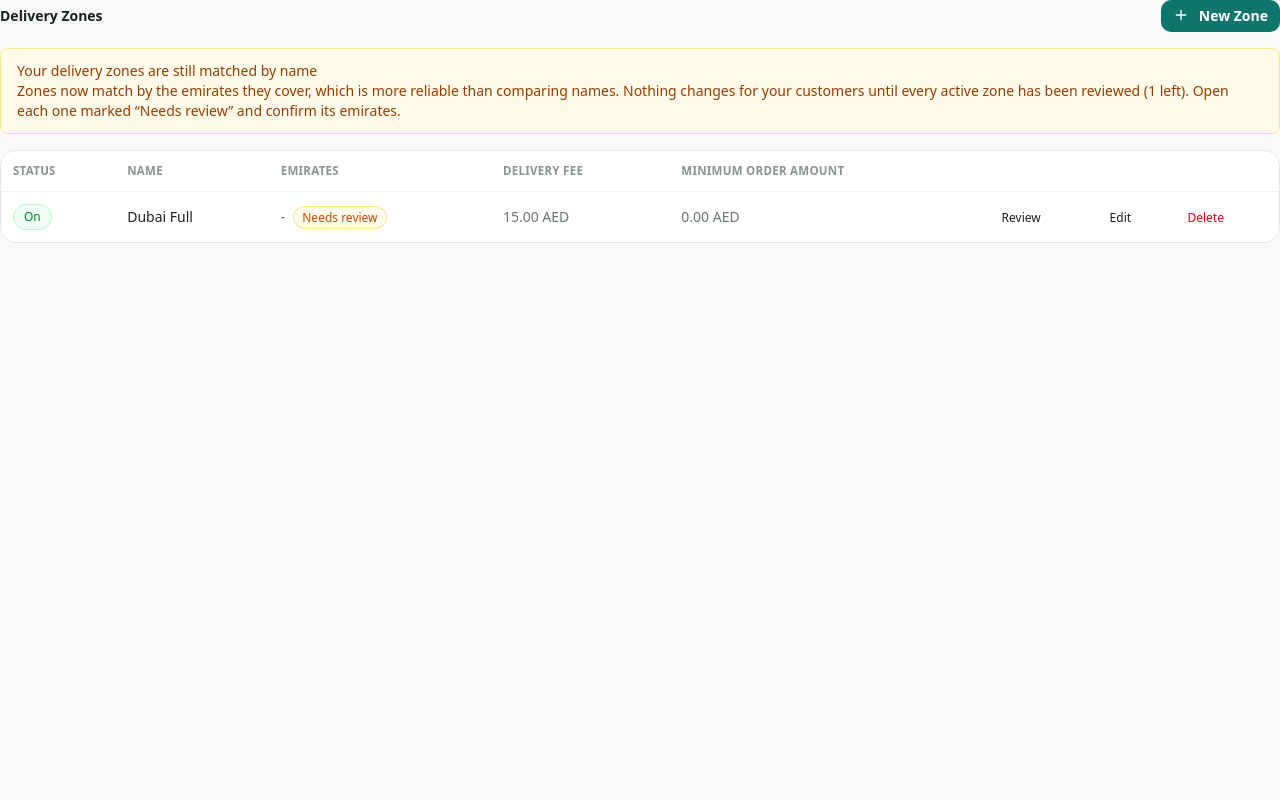
Test: OutletDeliveryAreaTab region mapping › an inexact proposal asks the merchant to check it, but still pre-fills it
Click the button "Review".
click(1021, 218)  # box [1002,210,1041,226]
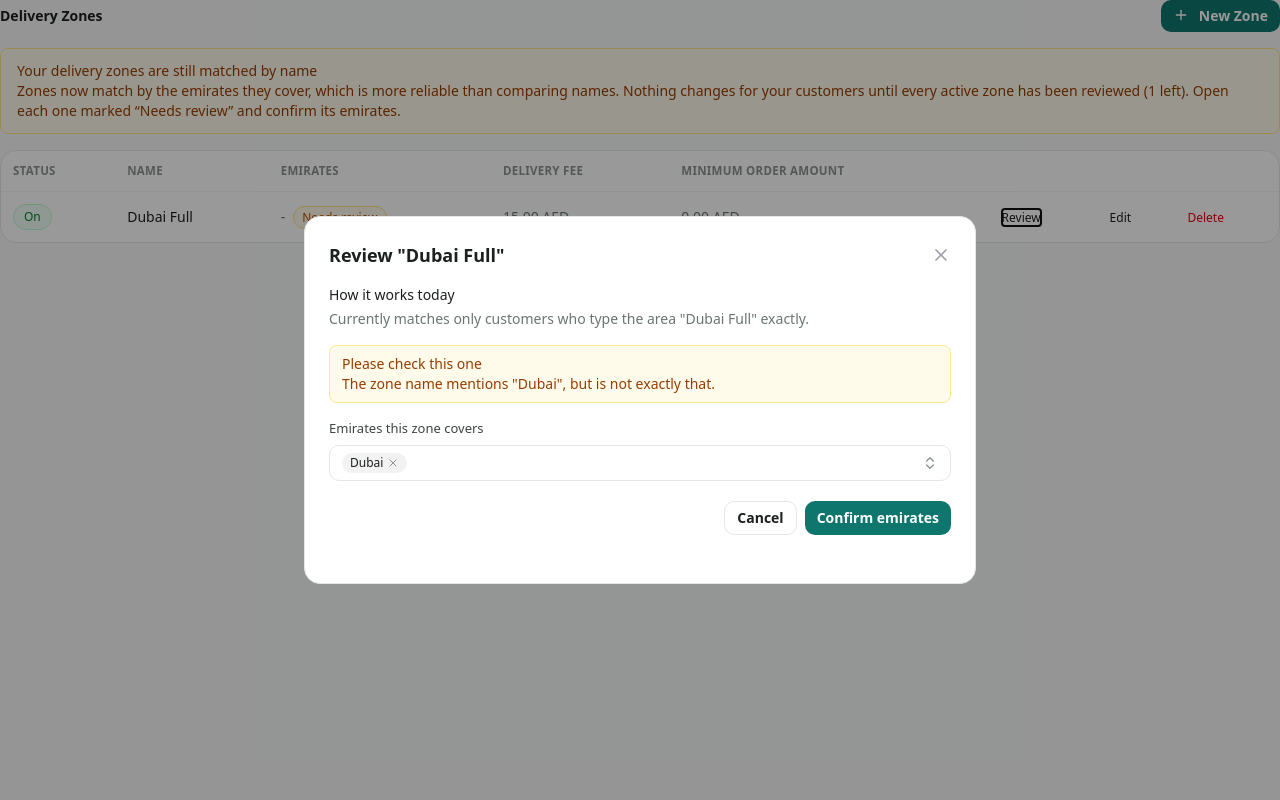
Now the text "Please check this one" is shown, box [342,354,482,373]
Now the button "Confirm emirates" is enabled, box [805,501,951,535]
